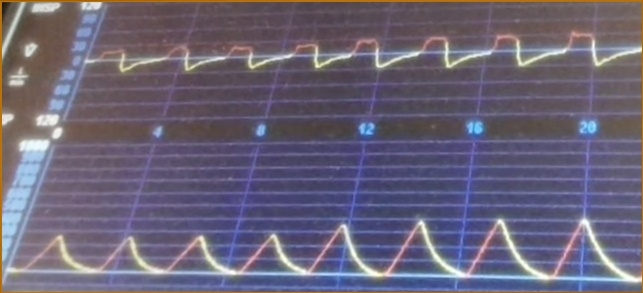Normal Flow: (91, 18, 643, 101)
Normal Volume: (14, 215, 640, 288)
